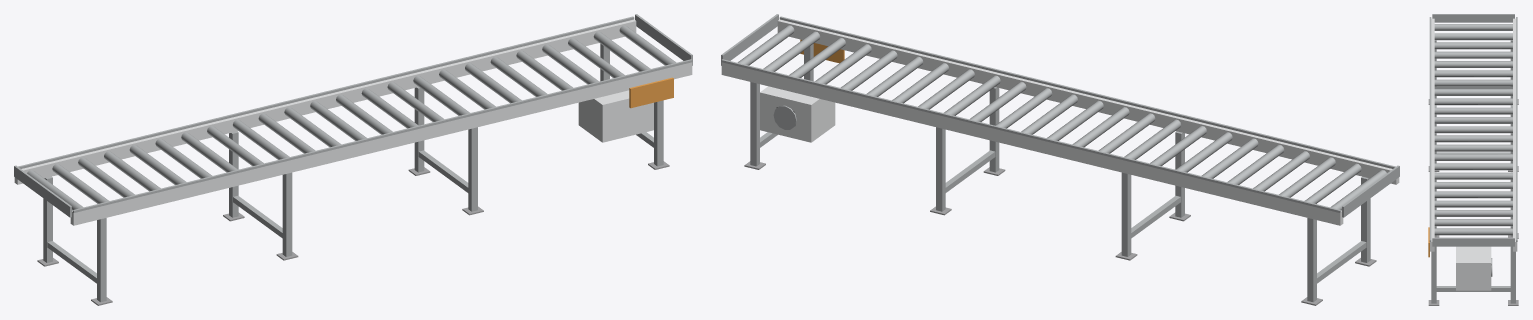
File: depot_conveyor.glb
The picture shows the model from 3 angles, left to right: view 1: azimuth 30°, elevation 25°; view 2: azimuth 150°, elevation 25°; view 3: azimuth 270°, elevation 25°; orthographic projection. The views are drawn at different scales.
Visible parts, largest first — view 1: static_conveyor, roller_2, roller_5, roller_23, roller_8, roller_16, roller_9, roller_13, roller_20, roller_10, roller_12, roller_15 (+12 smaller); view 2: static_conveyor, roller_2, roller_5, roller_23, roller_8, roller_16, roller_9, roller_13, roller_20, roller_10, roller_12, roller_15 (+12 smaller); view 3: static_conveyor, roller_1, roller_2, roller_3, roller_5, roller_6, roller_8, roller_9, roller_11, roller_12, roller_13, roller_15 (+13 smaller).
Part boxes in pixels (x1,y1,x2,y2): static_conveyor: [14, 14, 692, 305]; roller_2: [78, 157, 134, 197]; roller_5: [155, 138, 212, 178]; roller_23: [619, 25, 676, 65]; roller_8: [233, 119, 289, 159]; roller_16: [439, 69, 495, 109]; roller_9: [258, 113, 315, 153]; roller_13: [361, 88, 418, 128]; roller_20: [542, 44, 598, 84]; roller_10: [284, 107, 341, 147]; roller_12: [336, 94, 392, 134]; roller_15: [413, 75, 469, 115]; static_conveyor: [721, 14, 1399, 305]; roller_2: [1279, 157, 1335, 197]; roller_5: [1201, 138, 1258, 178]; roller_23: [737, 25, 794, 65]; roller_8: [1124, 119, 1180, 159]; roller_16: [918, 69, 974, 109]; roller_9: [1098, 113, 1155, 153]; roller_13: [995, 88, 1052, 128]; roller_20: [815, 44, 871, 84]; roller_10: [1072, 107, 1129, 147]; roller_12: [1021, 94, 1077, 134]; roller_15: [944, 75, 1000, 115]; static_conveyor: [1428, 14, 1518, 305]; roller_1: [1434, 33, 1512, 40]; roller_2: [1434, 42, 1512, 49]; roller_3: [1434, 51, 1512, 58]; roller_5: [1434, 70, 1512, 77]; roller_6: [1434, 79, 1512, 86]; roller_8: [1434, 98, 1512, 105]; roller_9: [1434, 107, 1512, 114]; roller_11: [1434, 126, 1512, 133]; roller_12: [1434, 135, 1512, 142]; roller_13: [1434, 144, 1512, 151]; roller_15: [1434, 163, 1512, 170].
Size of the model in its own units: 6.04 by 0.96 by 1.02.
